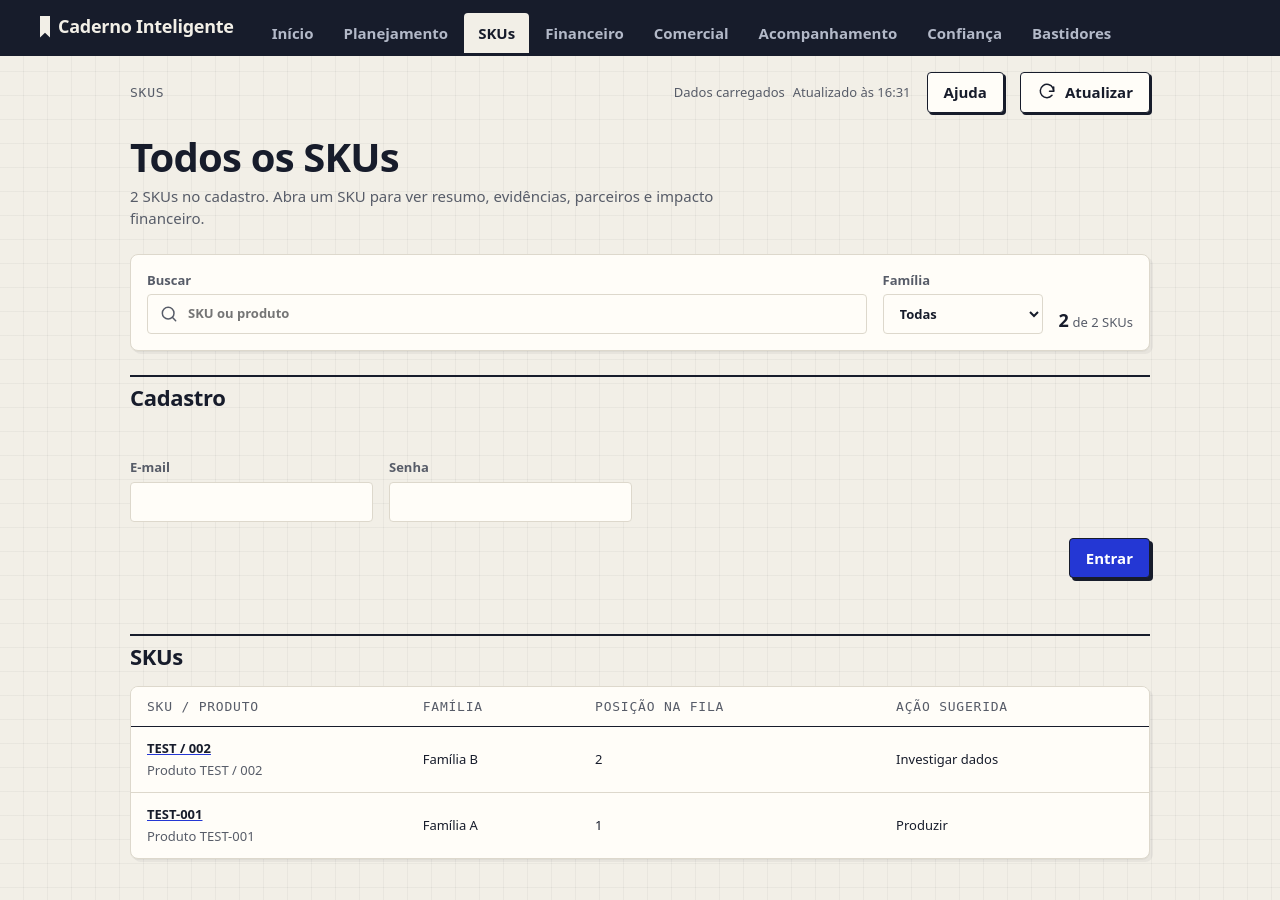
Test: cadastro de SKU (fase 3) › login recusado mostra o motivo e não guarda sessão
Type "pcp@exemplo.com" into the field labelled "E-mail".
click(252, 502); type("pcp@exemplo.com")  # box [130,482,373,522]
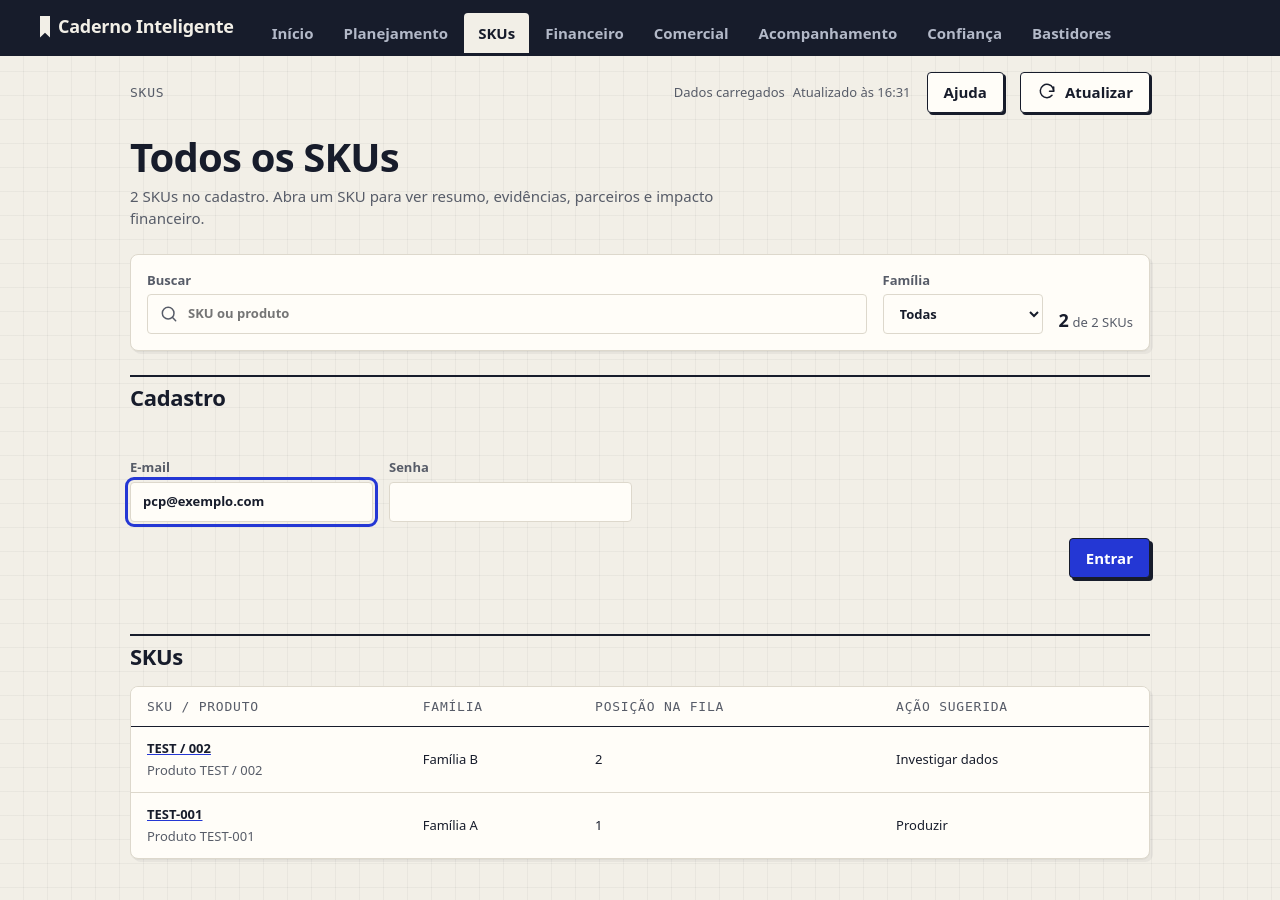
Type "errada" into the password field labelled "Senha".
click(510, 502); type("errada")  # box [389,482,632,522]
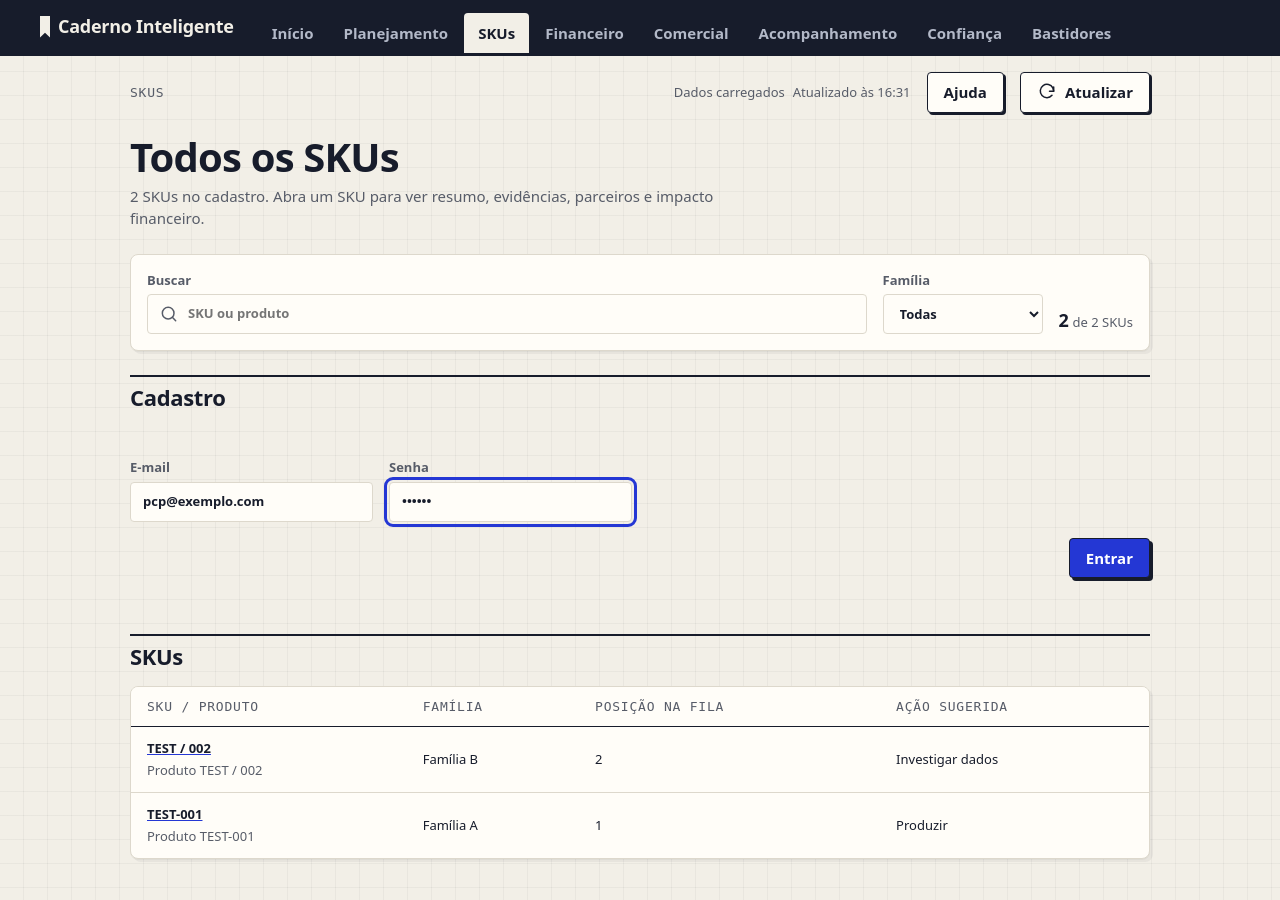
Click the button "Entrar".
click(1109, 558)  # box [1069,538,1150,578]
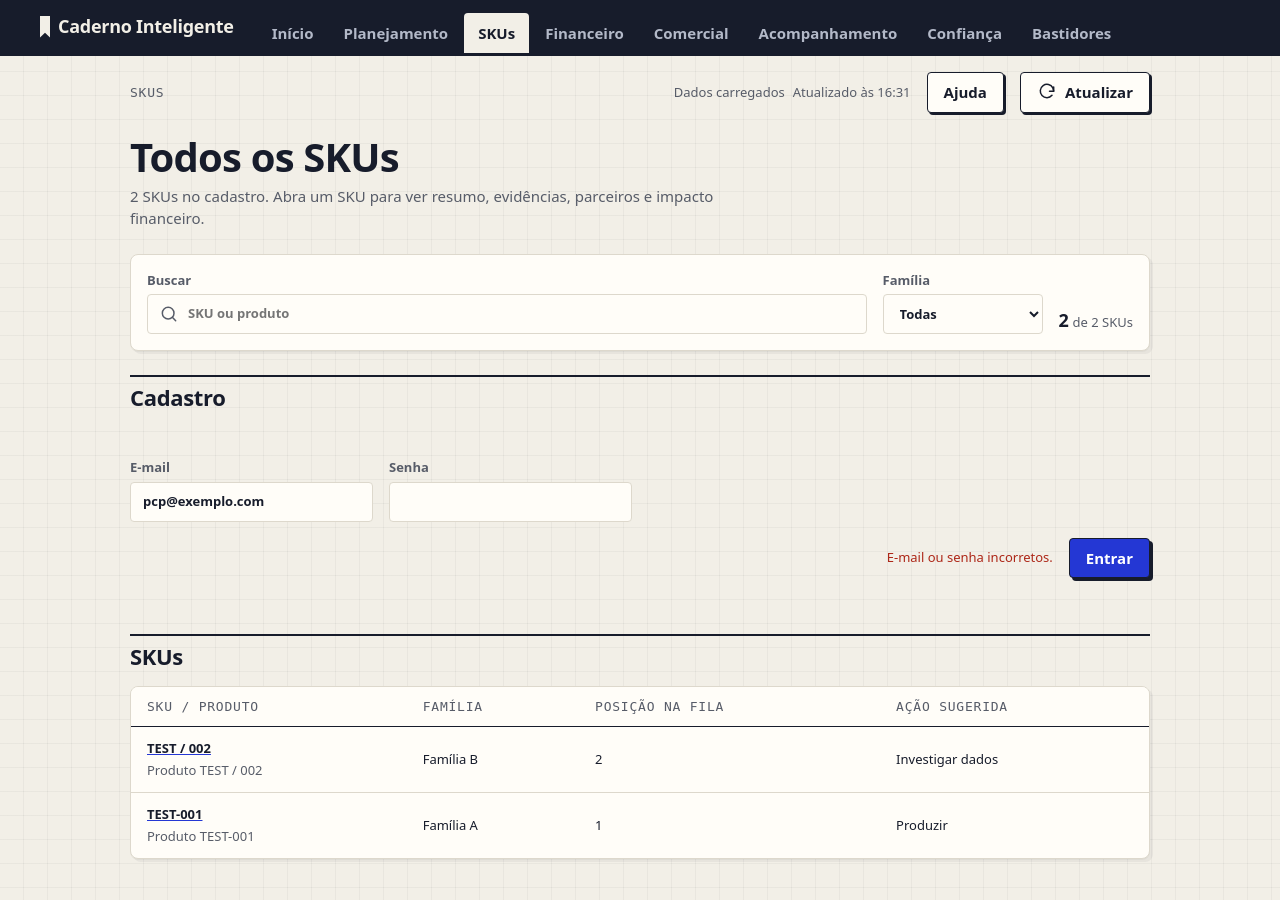
Result: the message "E-mail ou senha incorretos." is shown at [887,548,1053,568]
